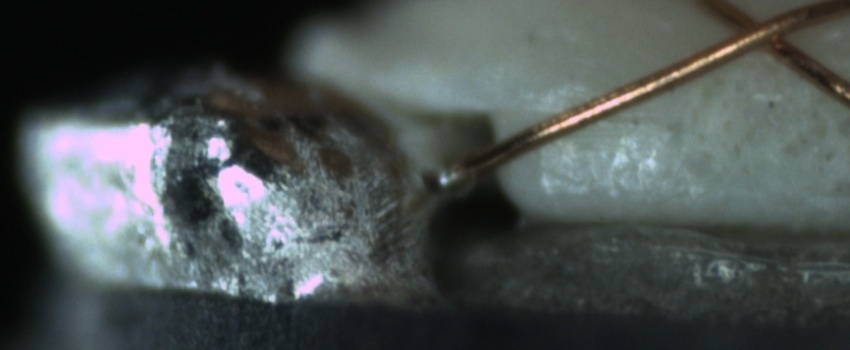CL: (708, 2, 808, 65)
DL: (531, 87, 672, 148)
